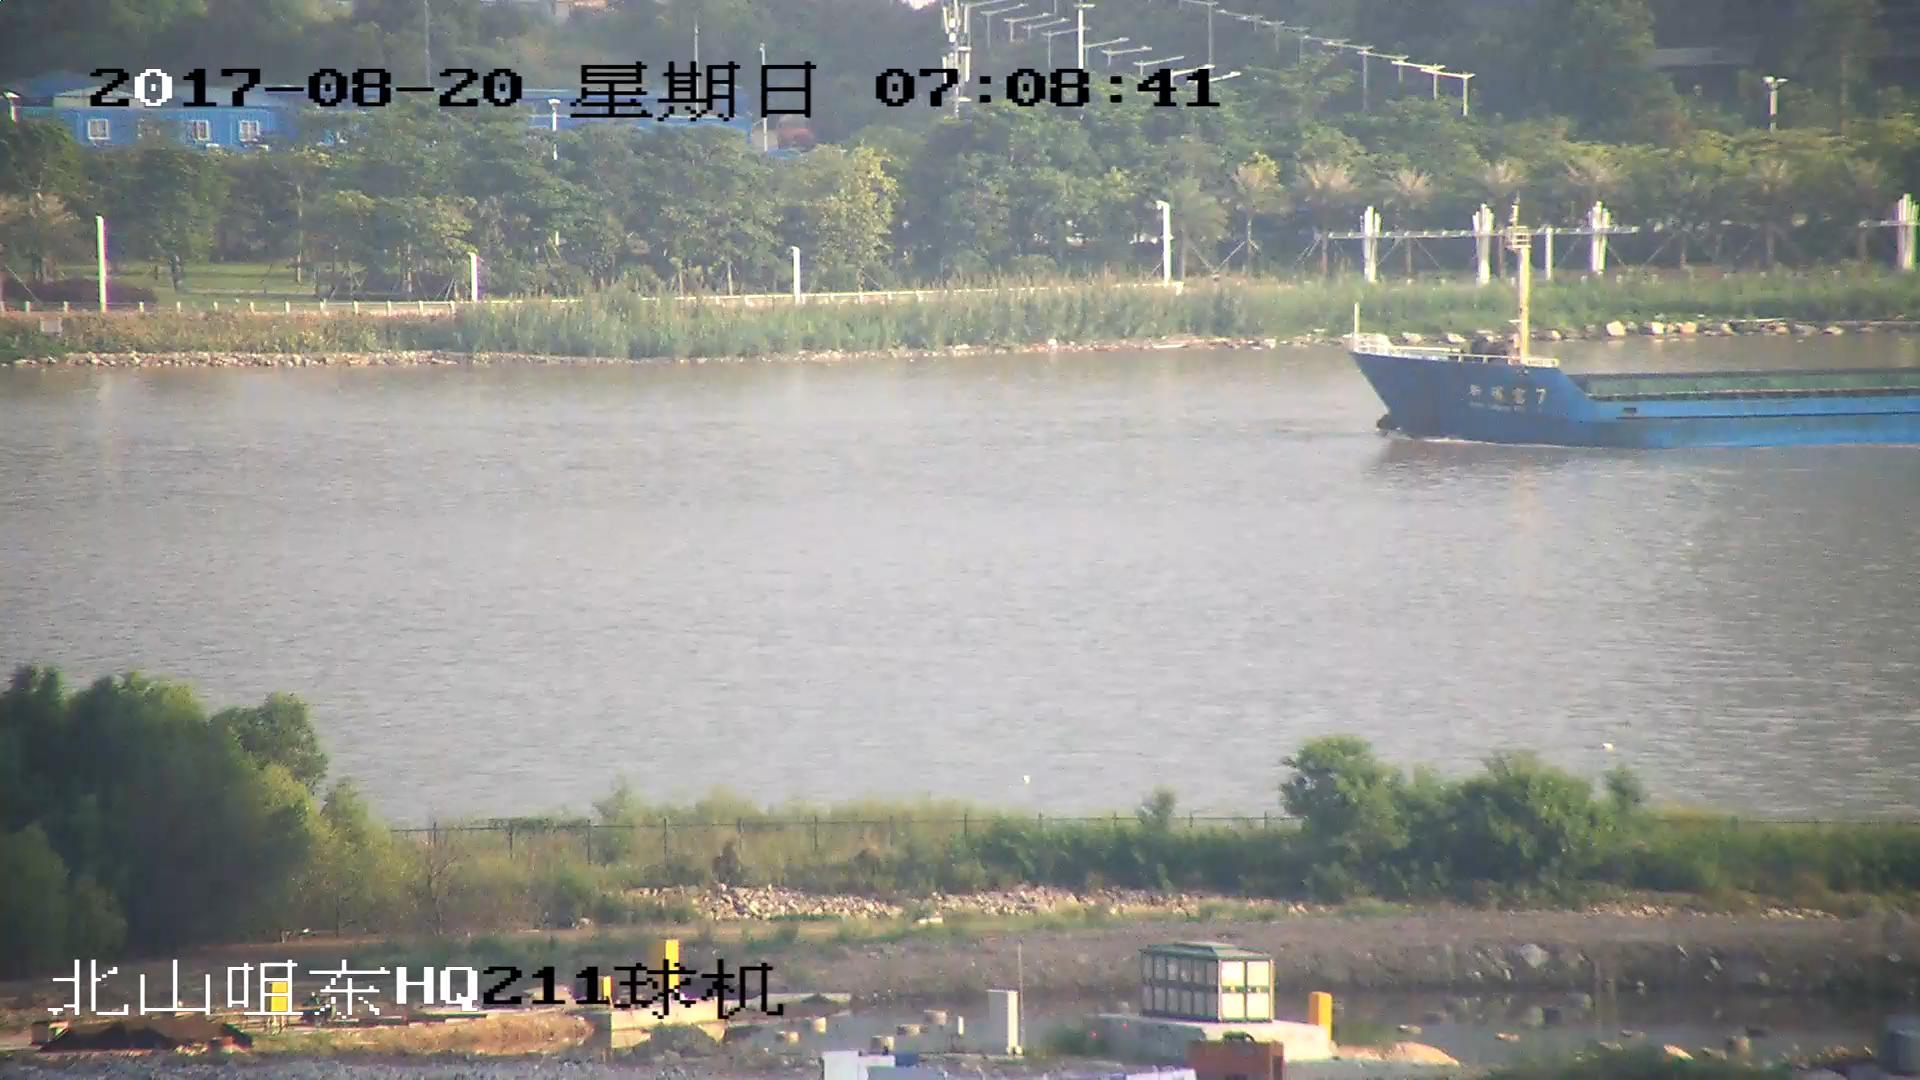Ship: (1350, 235, 1920, 447)
